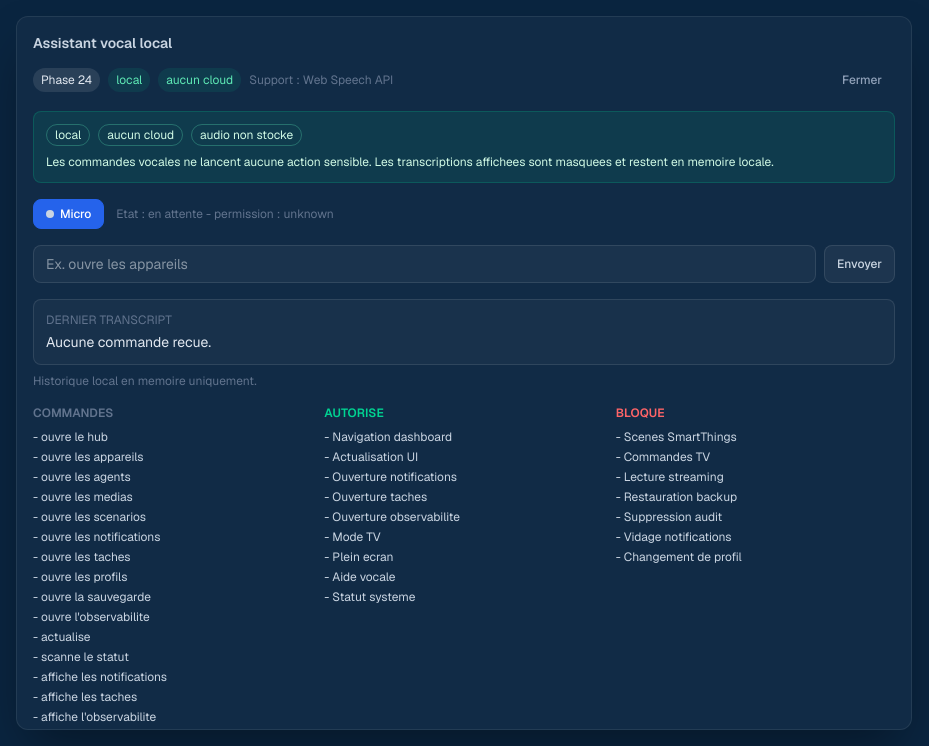
Test case: VoiceAssistantPanel › blocks sensitive text fallback commands
In the field with placeholder "Ex. ouvre les appareils": {"x": 424, "y": 264} top-left (33, 245), bottom-right (816, 283), type "allume la tele"
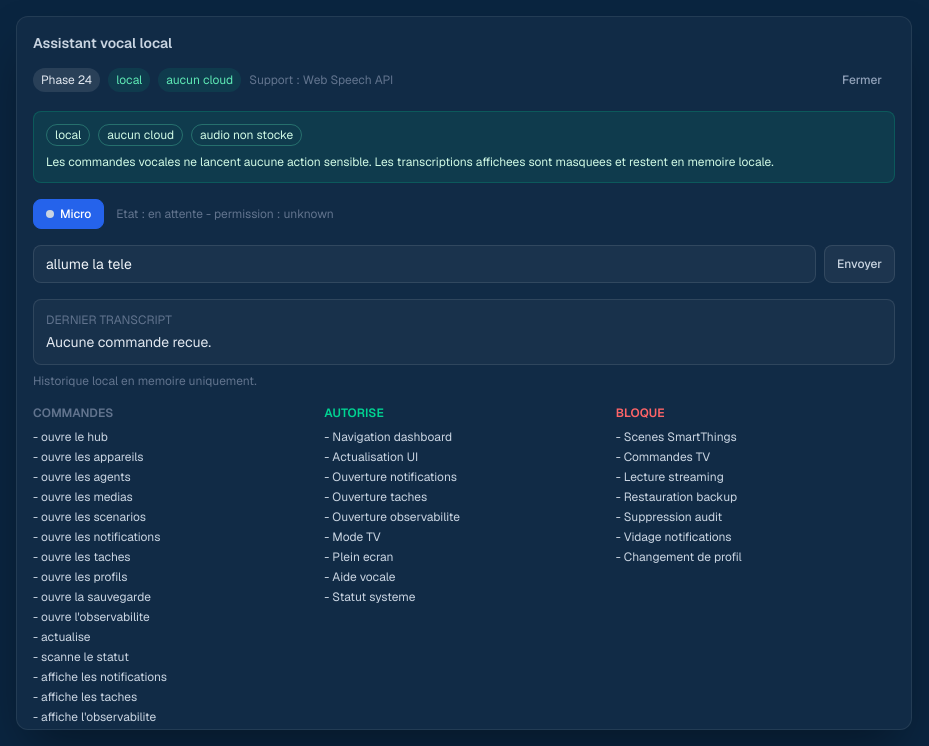
Click the button "Envoyer": {"x": 860, "y": 264} top-left (824, 245), bottom-right (895, 283)
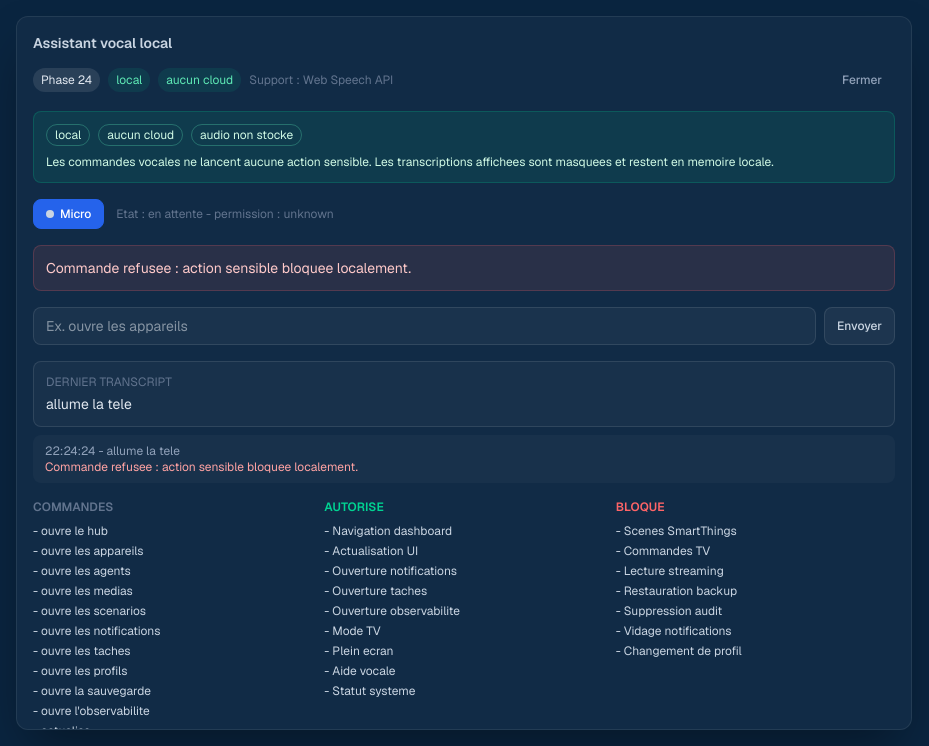
Check: the 1st text "Commande refusee : action sensible bloquee localement." is shown, box top-left (33, 245), bottom-right (895, 291)
